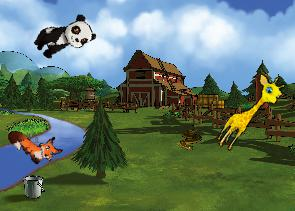fox: (4, 113, 66, 173)
giraffe: (212, 68, 289, 159)
panda: (30, 11, 97, 64)
